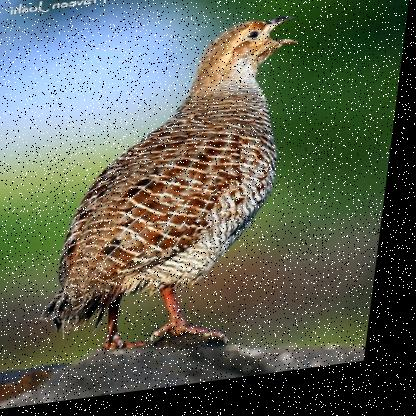Burung: (45, 22, 304, 371)
